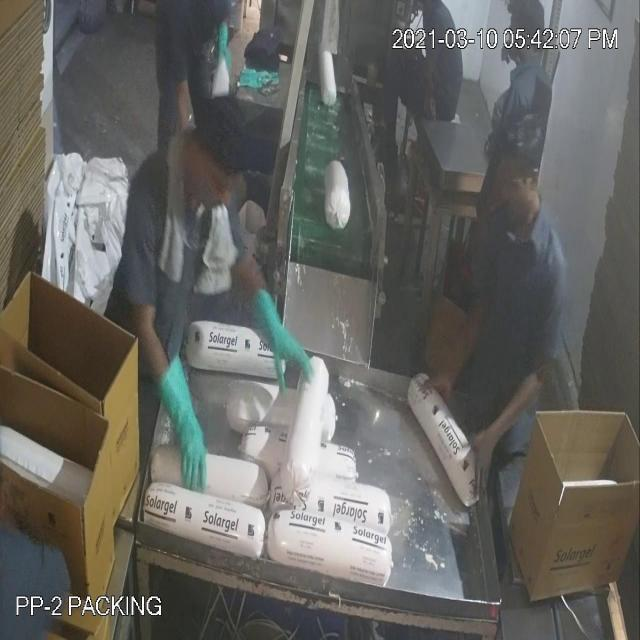Gloves: (83, 131, 510, 434)
